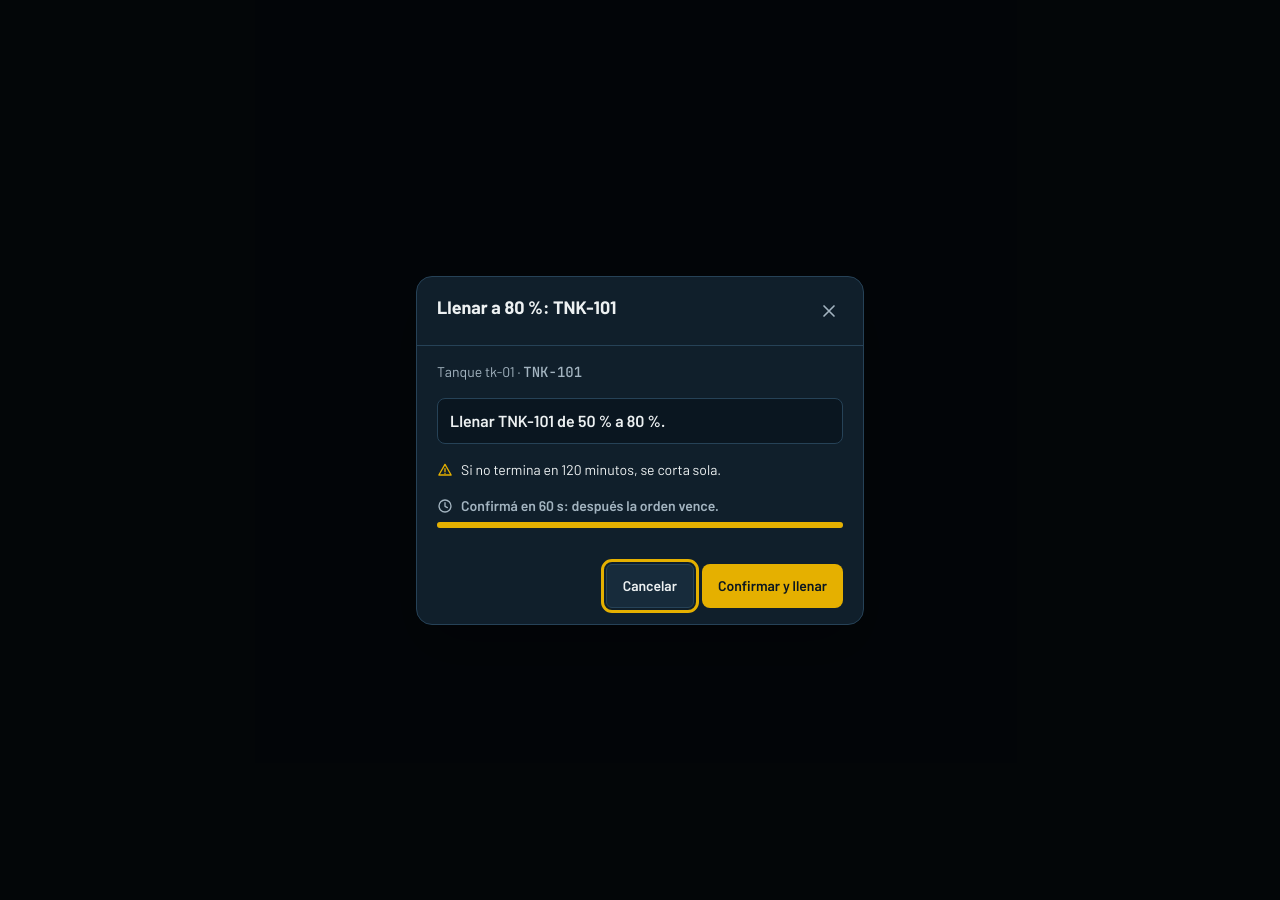
Test: diálogo de confirmación (dos pasos) › abre con la vista previa SIN ejecutar; sólo «Confirmar» ejecuta, con el confirmId
The width and height of the screenshot is (1280, 900).
Expected: the text with test id "confirm-summary" shows "Llenar TNK-101", [450,410,665,430]
Expected: the list with test id "confirm-warnings" shows "120 minutos", [461,460,721,478]
Click the button with test id "confirm-go": [772, 586] box [702,564,843,608]
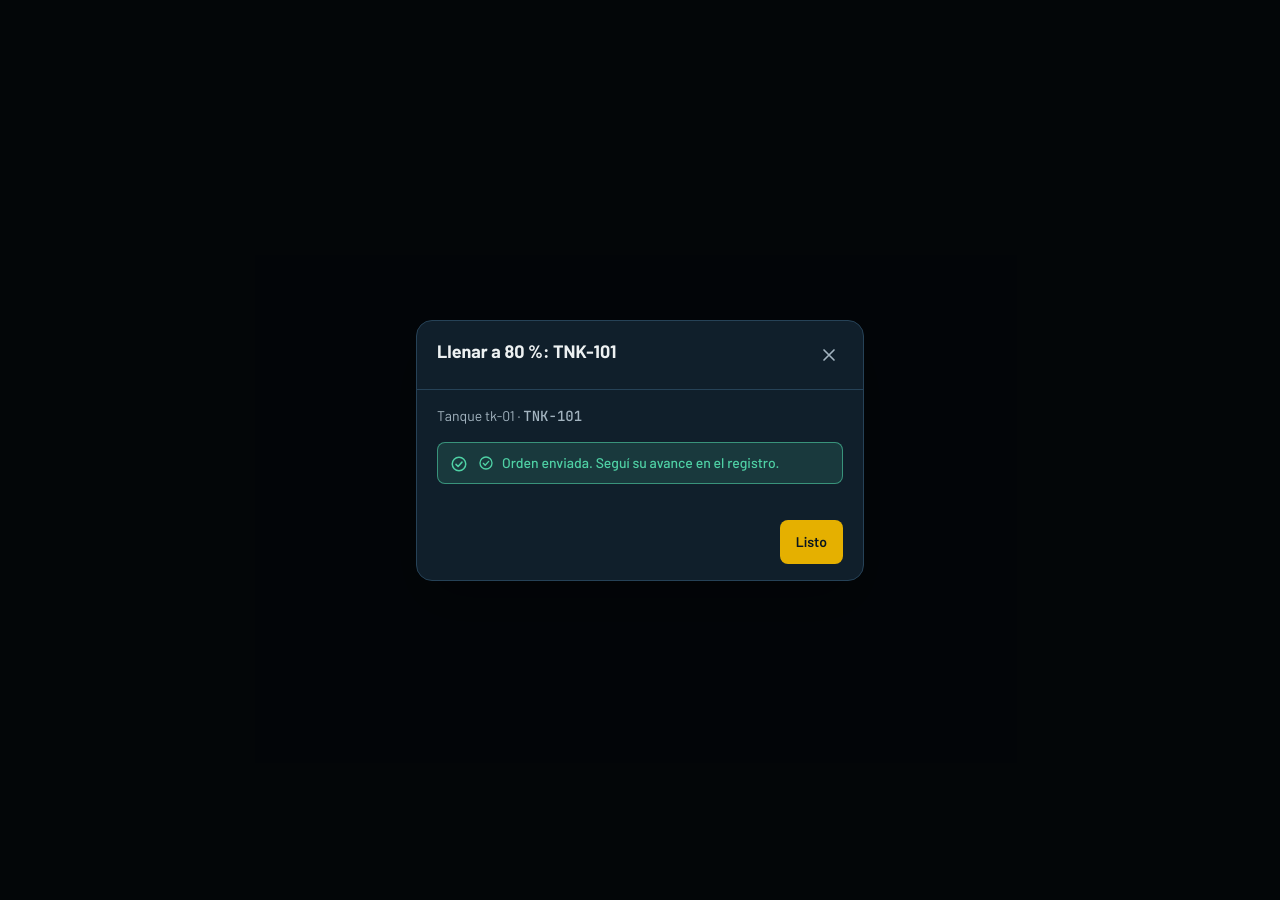
Expected: the element with test id "confirm-done" is shown, [478,452,830,472]
